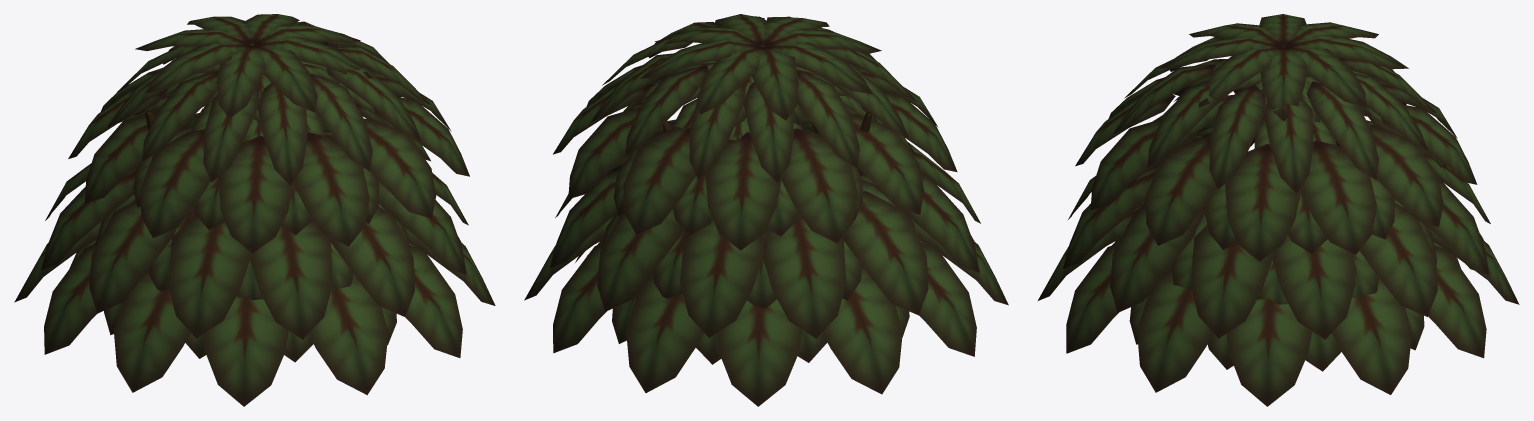
File: planta5.fbx
3 views of the same model, side by side, from view 1: azimuth 30°, elevation 25°; view 2: azimuth 150°, elevation 25°; view 3: azimuth 270°, elevation 25° (orthographic).
Visible parts, largest first — view 1: pPlane49, pPlane48, pPlane28, pPlane27, pPlane29, pPlane73, pPlane72, pPlane45, pPlane47, pPlane69, pPlane71, pPlane26 (+35 smaller); view 2: pPlane43, pPlane42, pPlane44, pPlane23, pPlane24, pPlane66, pPlane67, pPlane22, pPlane74, pPlane50, pPlane68, pPlane25 (+35 smaller); view 3: pPlane32, pPlane33, pPlane52, pPlane77, pPlane31, pPlane76, pPlane53, pPlane70, pPlane51, pPlane46, pPlane75, pPlane30 (+35 smaller).
Boxes of the visible parts, left/top/right/bottom form: pPlane49: left=168, top=214, right=252, bottom=338; pPlane48: left=250, top=220, right=332, bottom=339; pPlane28: left=203, top=296, right=288, bottom=406; pPlane27: left=308, top=274, right=388, bottom=395; pPlane29: left=114, top=268, right=190, bottom=392; pPlane73: left=218, top=135, right=294, bottom=253; pPlane72: left=294, top=132, right=369, bottom=246; pPlane45: left=89, top=201, right=176, bottom=313; pPlane47: left=330, top=206, right=414, bottom=316; pPlane69: left=140, top=129, right=210, bottom=238; pPlane71: left=364, top=118, right=436, bottom=218; pPlane26: left=405, top=244, right=462, bottom=357; pPlane43: left=763, top=214, right=846, bottom=338; pPlane42: left=680, top=220, right=767, bottom=337; pPlane44: left=843, top=191, right=928, bottom=315; pPlane23: left=716, top=299, right=802, bottom=406; pPlane24: left=822, top=266, right=902, bottom=394; pPlane66: left=705, top=132, right=782, bottom=250; pPlane67: left=781, top=128, right=857, bottom=243; pPlane22: left=626, top=273, right=703, bottom=392; pPlane74: left=623, top=126, right=695, bottom=234; pPlane50: left=597, top=209, right=683, bottom=311; pPlane68: left=850, top=114, right=924, bottom=214; pPlane25: left=919, top=242, right=976, bottom=356; pPlane32: left=1226, top=299, right=1311, bottom=406; pPlane33: left=1137, top=268, right=1213, bottom=392; pPlane52: left=1272, top=235, right=1355, bottom=339; pPlane77: left=1225, top=143, right=1301, bottom=261; pPlane31: left=1331, top=278, right=1411, bottom=394; pPlane76: left=1301, top=140, right=1376, bottom=254; pPlane53: left=1190, top=225, right=1275, bottom=338; pPlane70: left=1145, top=137, right=1216, bottom=245; pPlane51: left=1359, top=203, right=1437, bottom=316; pPlane46: left=1110, top=206, right=1205, bottom=312; pPlane75: left=1370, top=126, right=1443, bottom=226; pPlane30: left=1428, top=245, right=1486, bottom=358.
Size of the model in its own units: 1.77 by 1.21 by 1.77.
